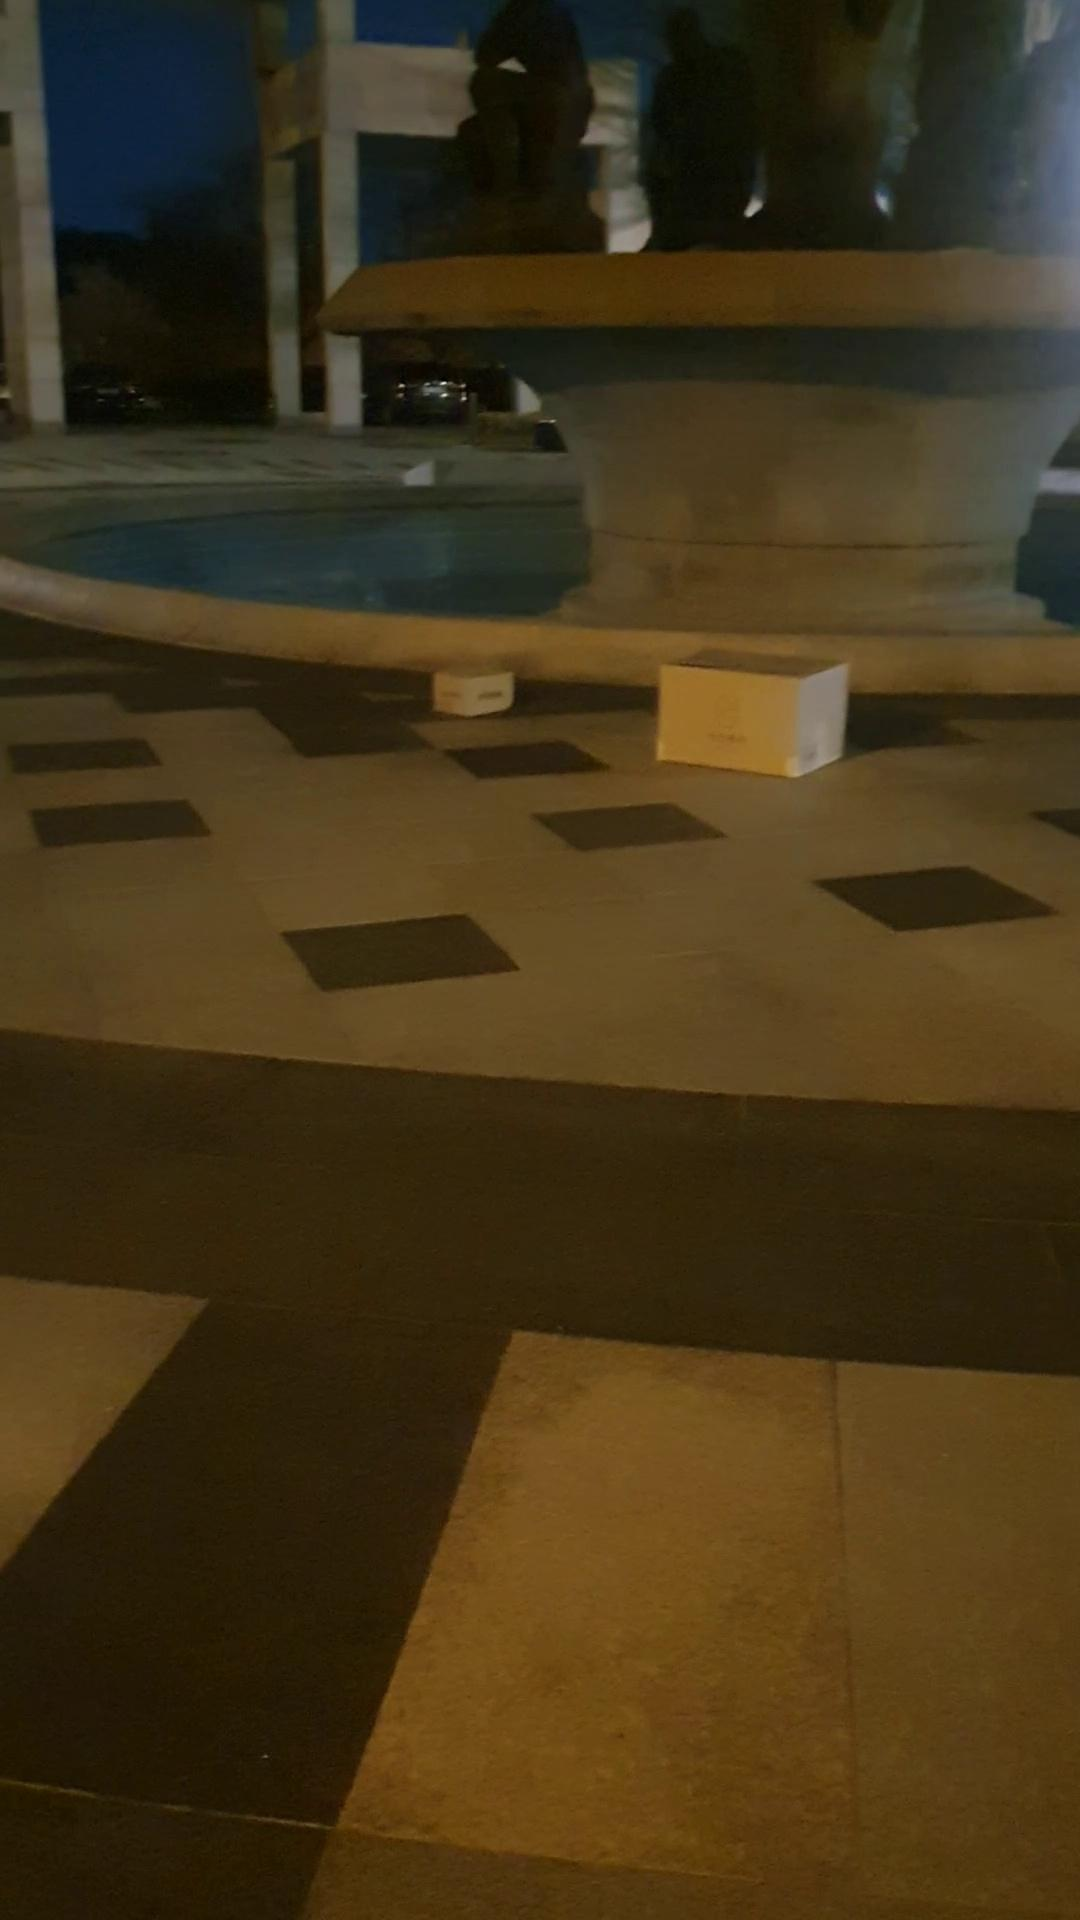Box: (653, 644, 858, 785), (415, 645, 516, 725)
